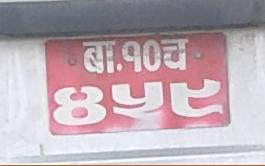0: (141, 37, 162, 73)
1: (119, 39, 143, 75)
4: (50, 84, 108, 128)
5: (109, 80, 166, 126)
9: (168, 77, 226, 121)
ba: (81, 38, 118, 78)
cha: (159, 36, 189, 72)
